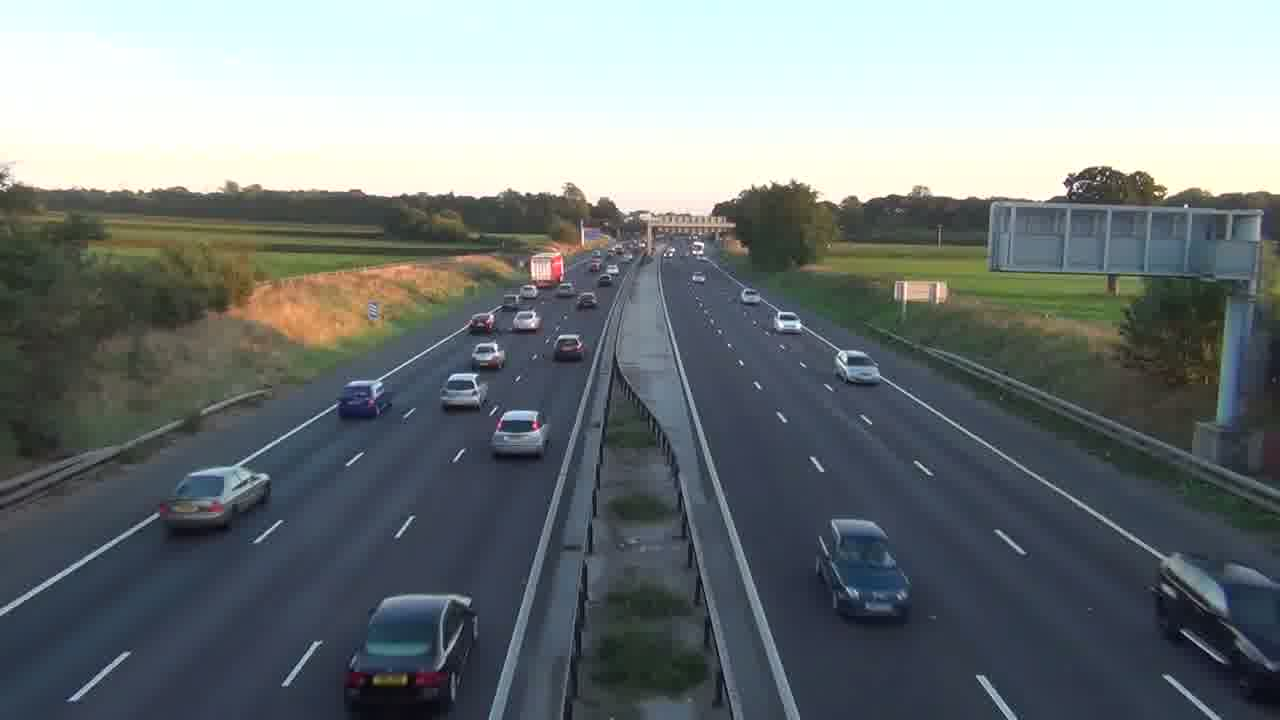car: (342, 592, 481, 715), (814, 517, 913, 623), (159, 464, 273, 533), (490, 409, 549, 458), (336, 380, 390, 419), (832, 349, 882, 386), (440, 372, 484, 412), (471, 341, 506, 370), (552, 333, 586, 362), (512, 307, 541, 333), (576, 291, 598, 310)
truck: (1149, 551, 1279, 701)
